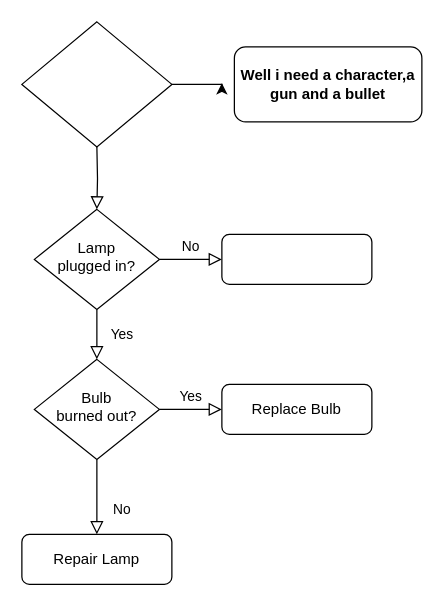
This 444x606 diagram has some shape labels left out. The centre of each missing label's shape, as x and y in pixels:
How do i make my character shoot?: (96,84)
Plug in lamp: (296,258)
